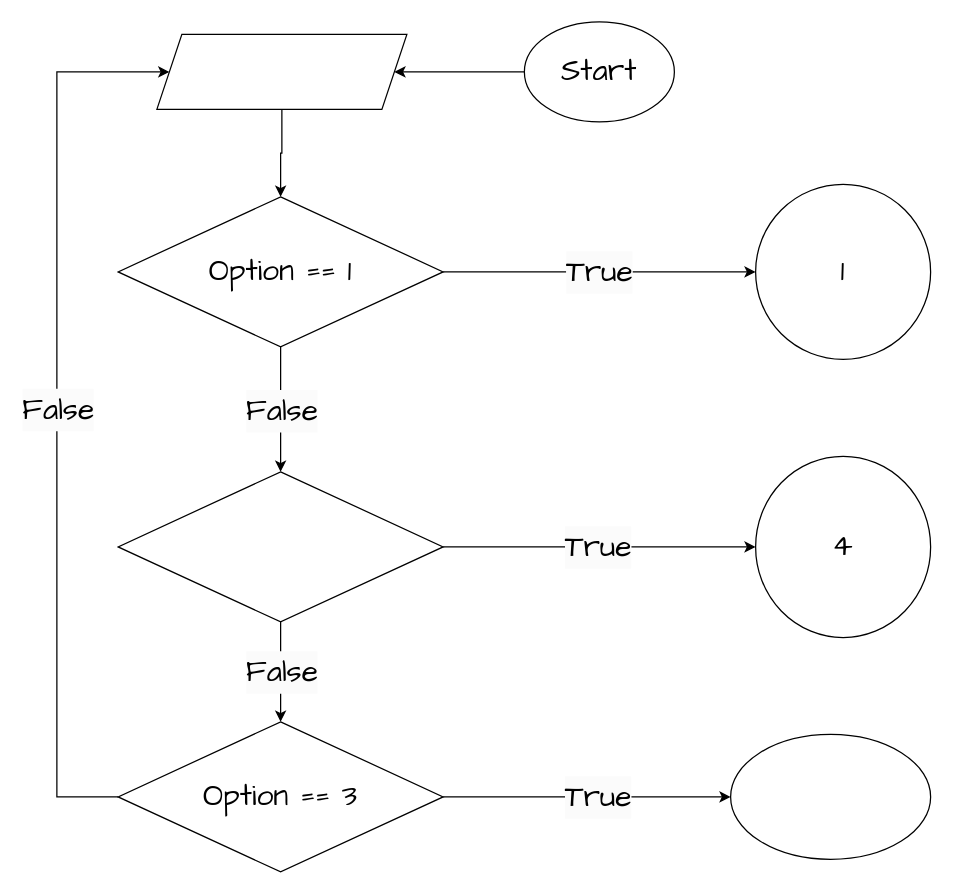
This 953x894 diagram has some shape labels left out. Each missing label, with the centre of its shape:
End: (x=830, y=796)
Input Option: (x=281, y=71)
Option == 2: (x=280, y=546)
